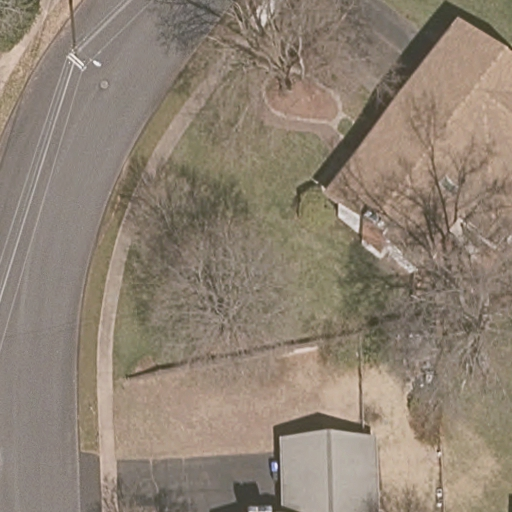DT: (65, 41, 103, 73)
